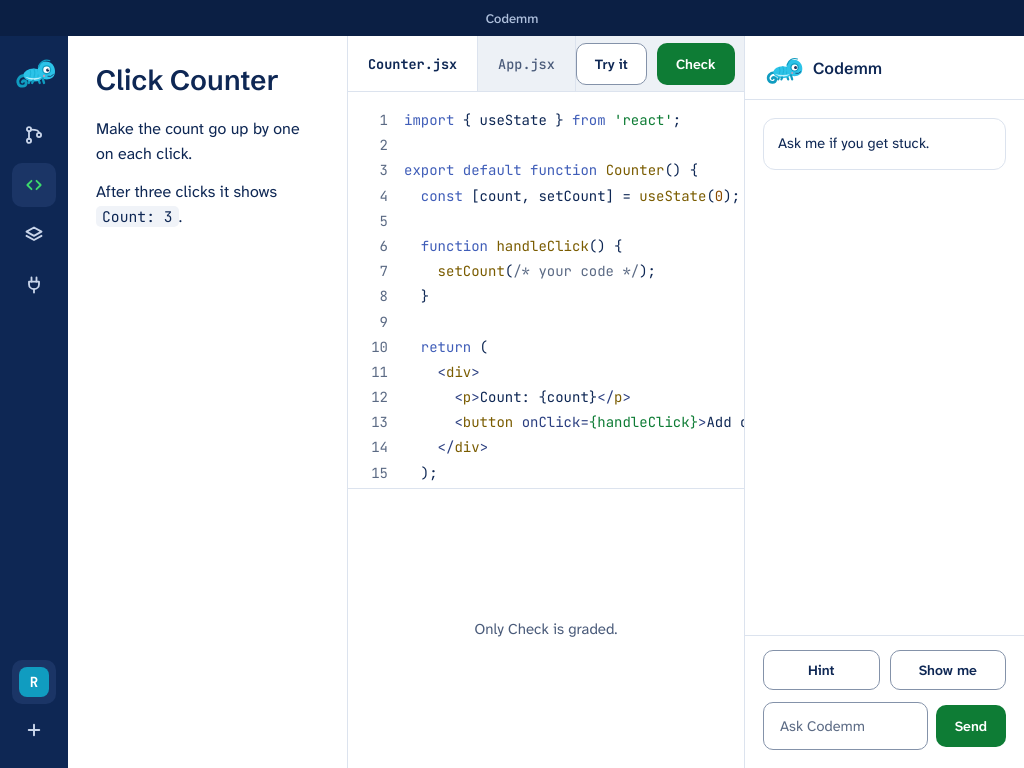
practice › tries the visible tests without grading
Expected: the heading "Click Counter" is shown, [96, 63, 279, 97]
What coordinates should you click on to do the following:
click the button "Try it"
I would click on:
 (611, 64)
Its box is [576, 42, 647, 84].
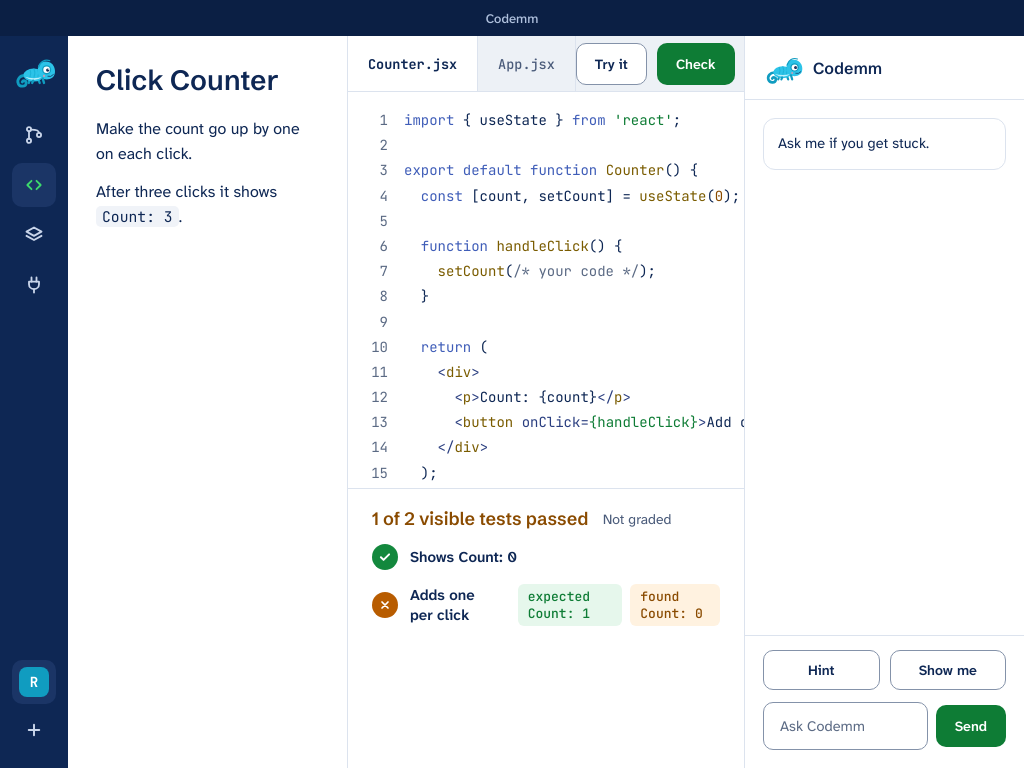
Expected: the heading "1 of 2 visible tests passed" is shown, [372, 507, 589, 530]
Expected: the element named "Results" shows "Not graded", [603, 510, 671, 528]
Expected: the element named "Results" shows "expected Count: 1", [348, 488, 744, 767]
